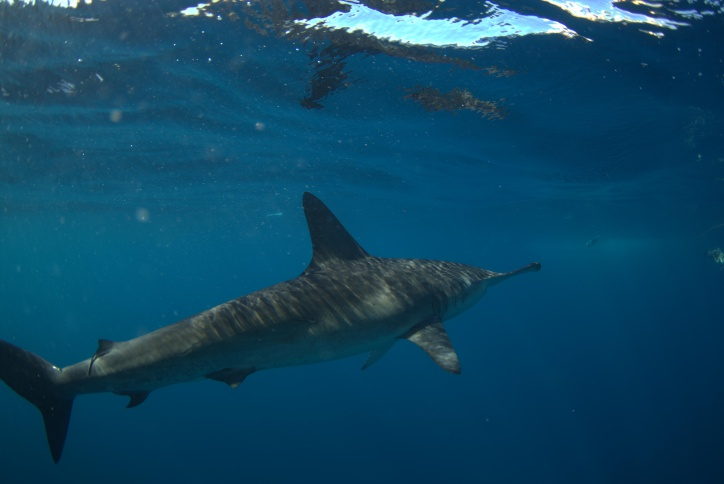Hammer: (1, 190, 598, 474)
